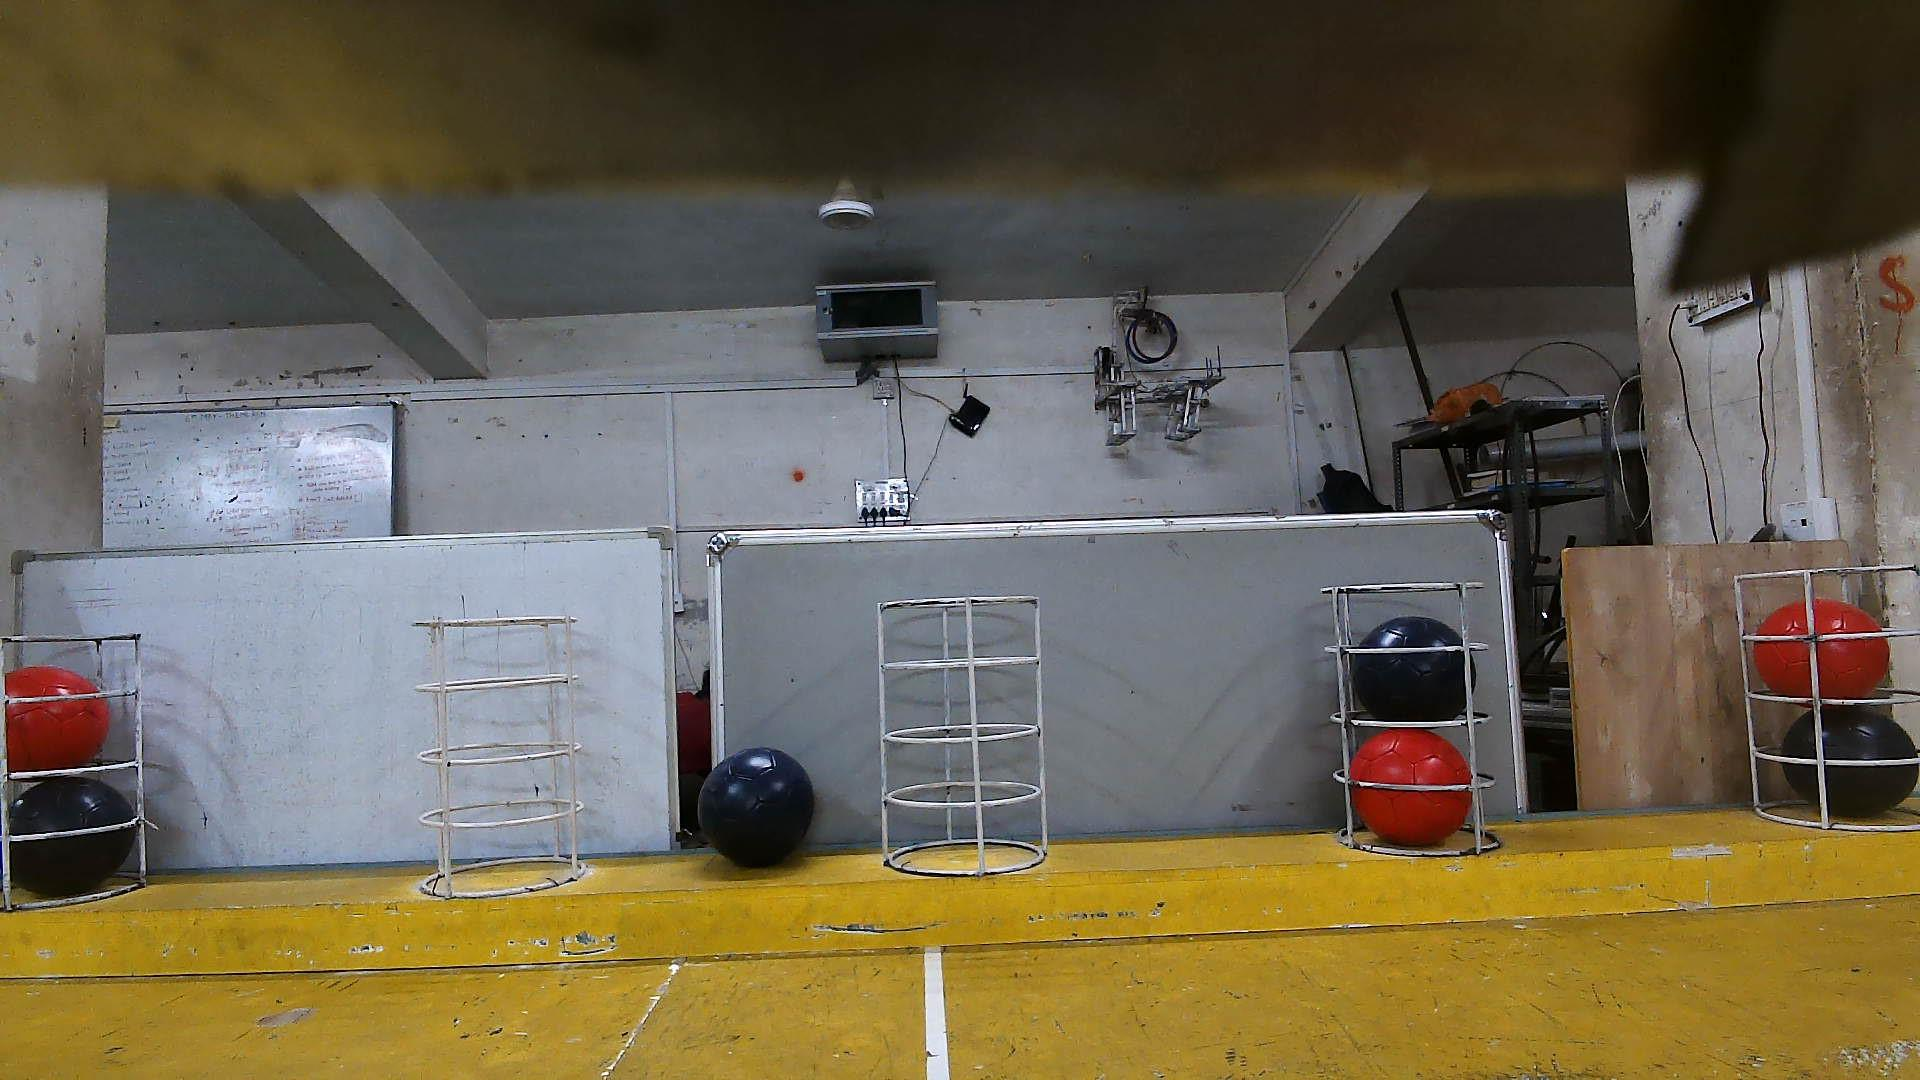dhoka: (9, 773, 138, 897), (1782, 705, 1919, 815), (1353, 616, 1476, 721)
laale: (1755, 599, 1891, 699), (1354, 731, 1468, 844), (5, 666, 109, 771)
